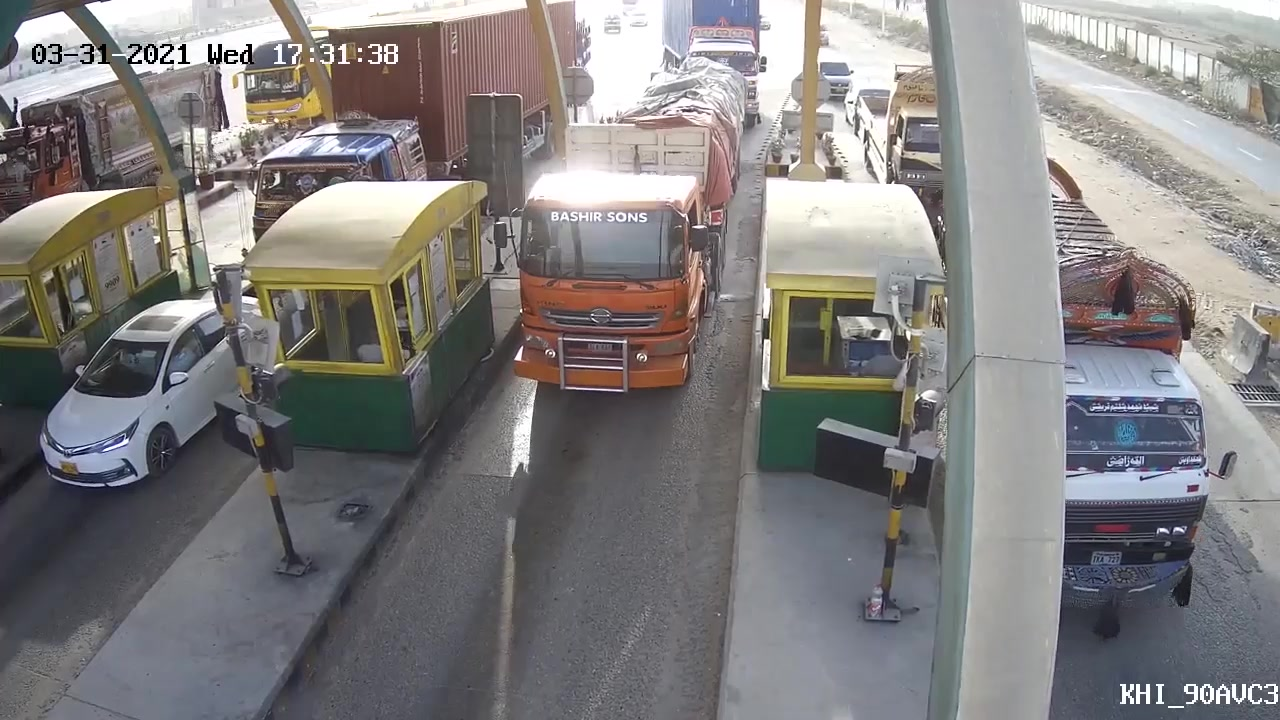F6: (485, 49, 762, 418)
